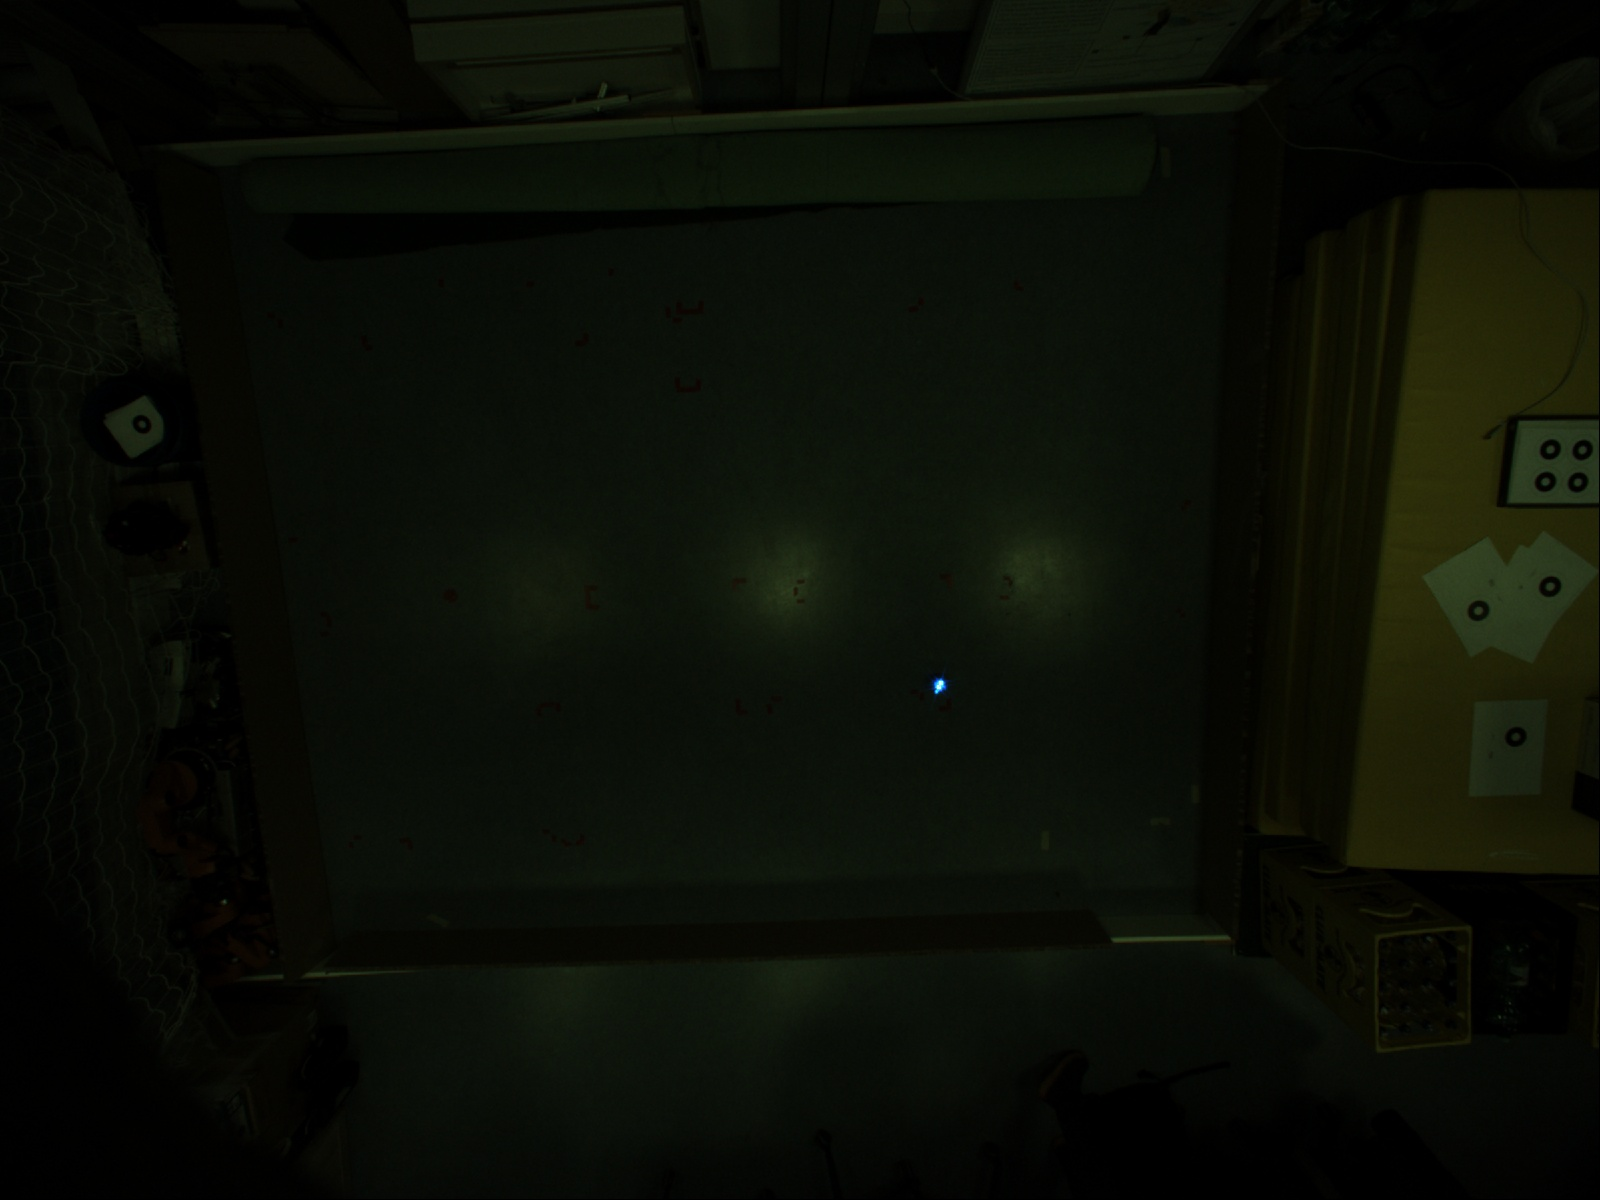sphero: (923, 671, 954, 701)
